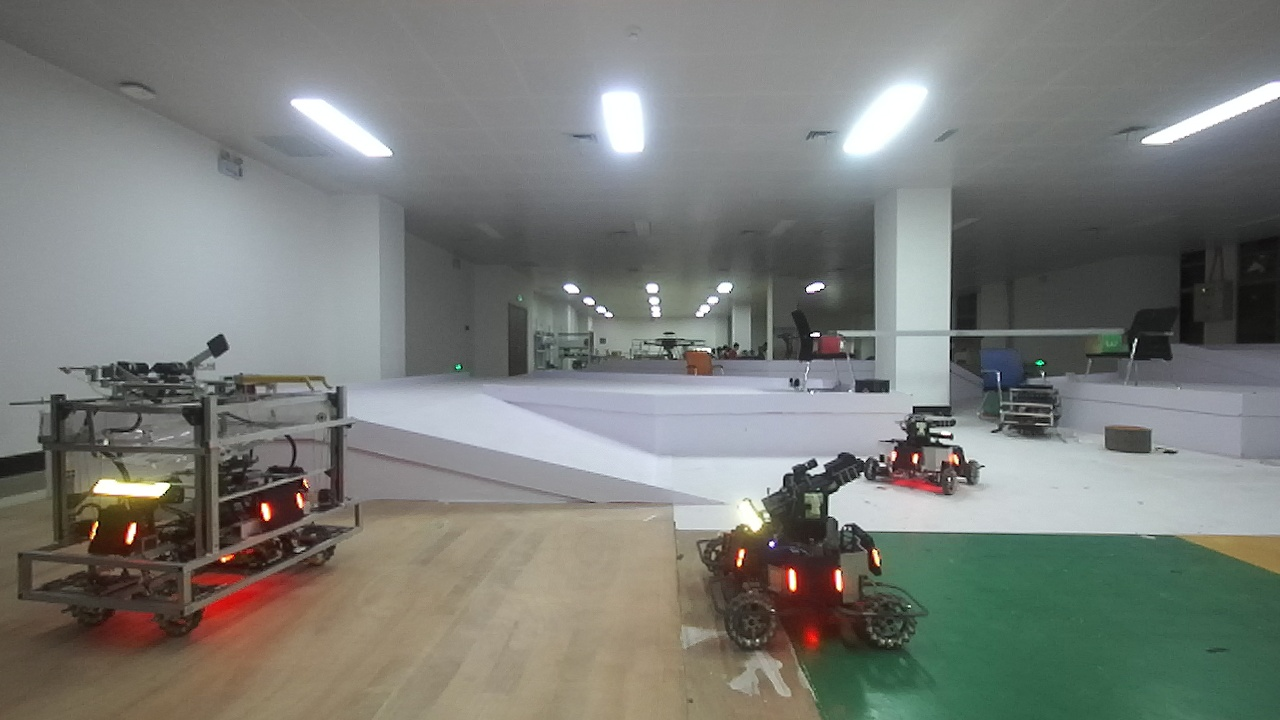car: (2, 330, 362, 645), (688, 450, 935, 647), (862, 399, 978, 493)
